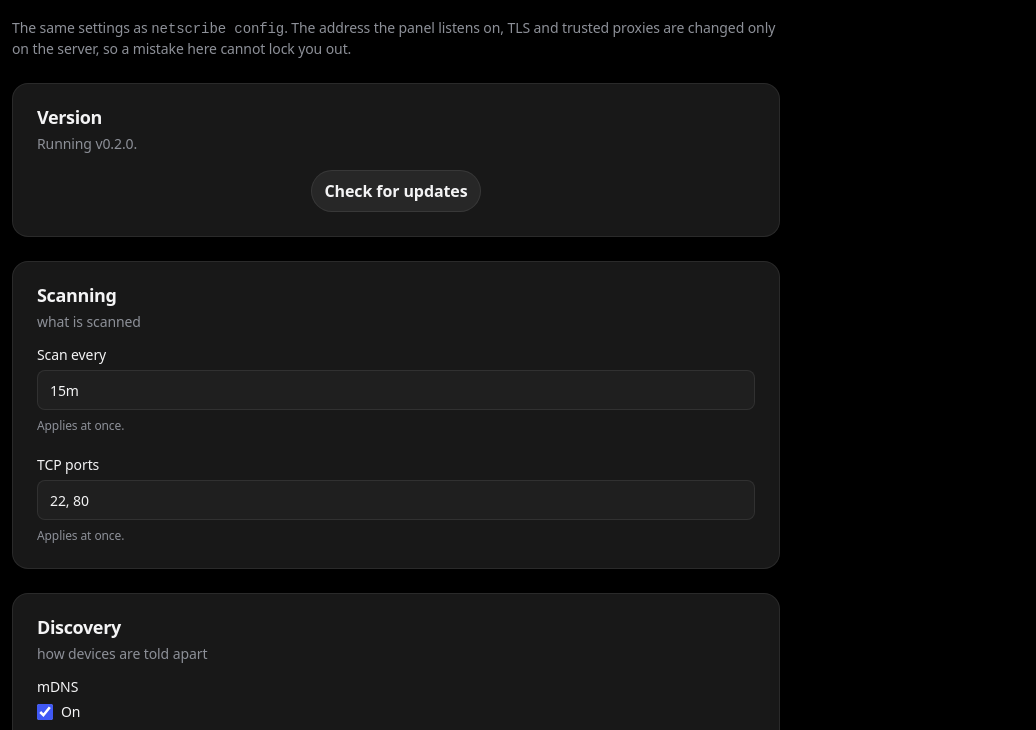
Scenario: Settings › offers a restart for a setting that needs one
Click the checkbox labelled "mDNS": (45, 712) [37,704,53,720]
(page scrolled)
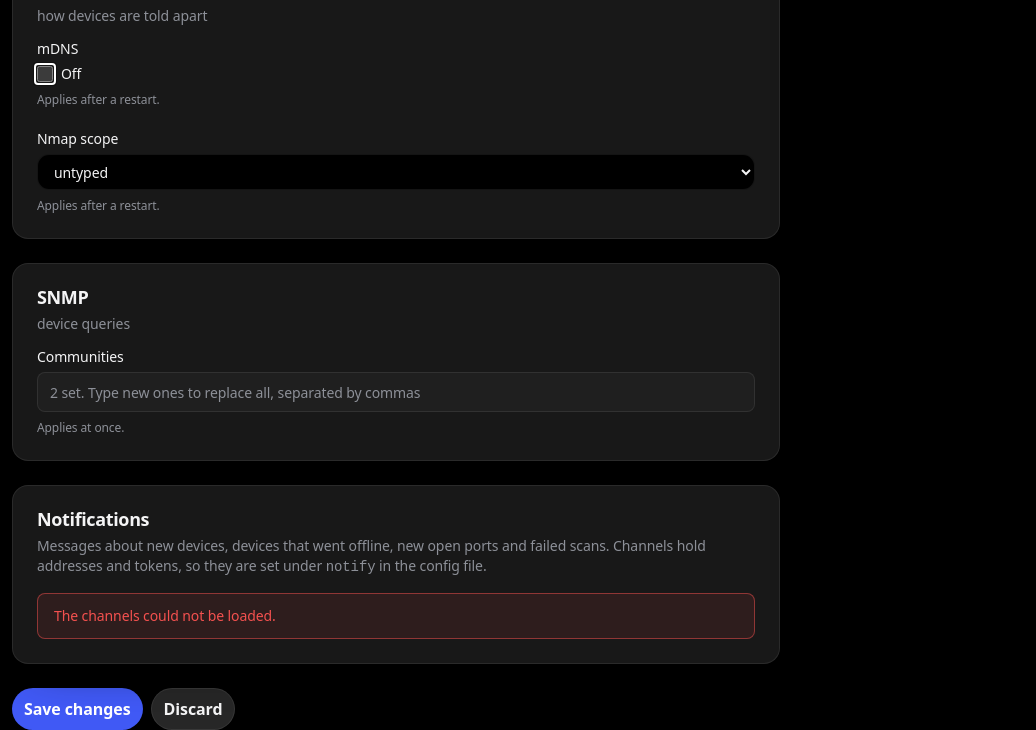
Click the button "Save changes": (77, 709) [12,688,142,729]
(page scrolled)
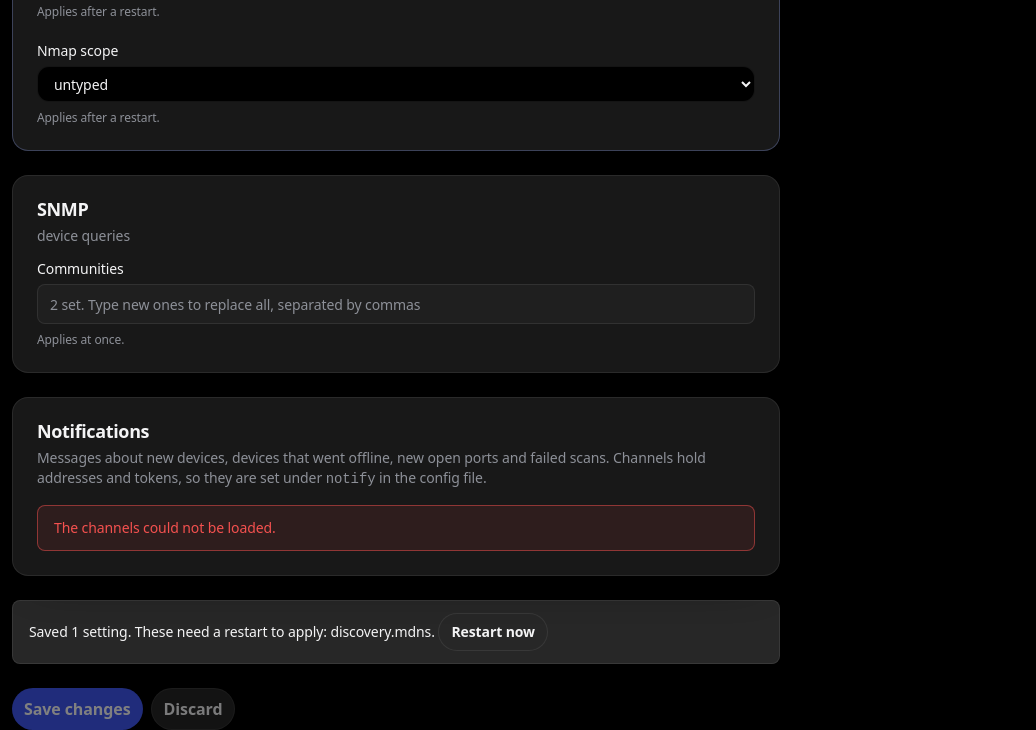
Click the button "Restart now": (493, 632) [438,613,548,651]
(page scrolled)
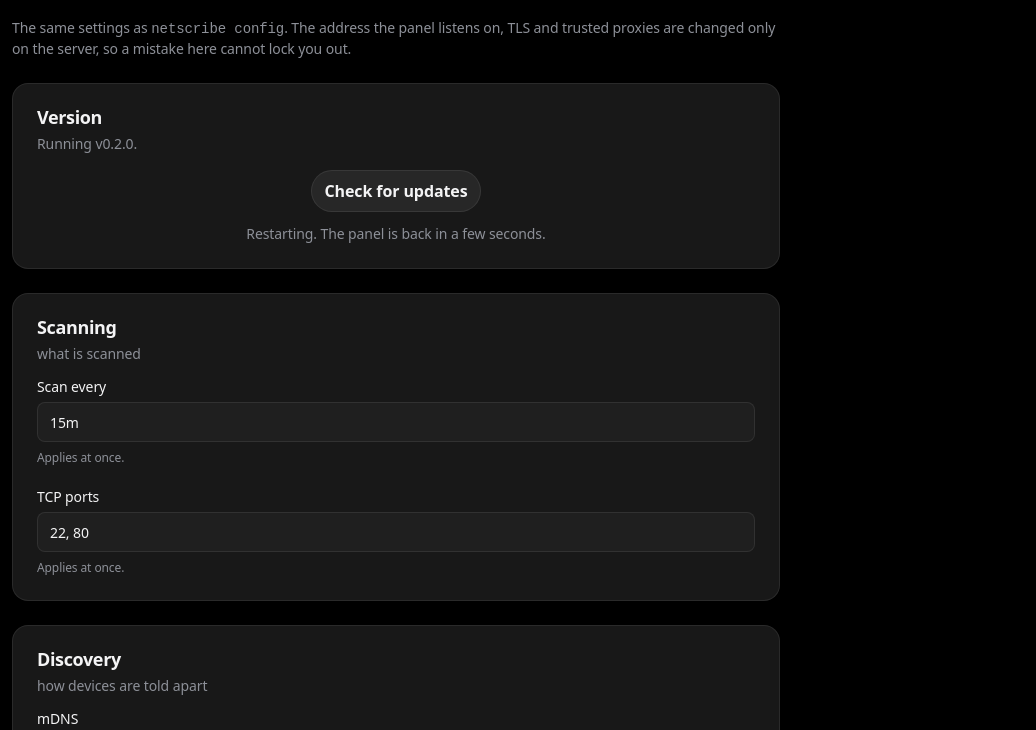
Now the text "Restarting. The panel is back in a few seconds." is shown, box [246,224,546,244]
